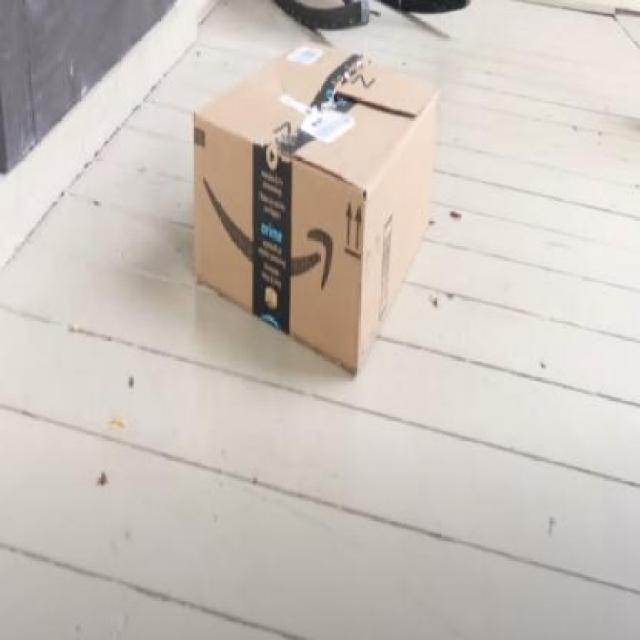box: (194, 40, 436, 375)
